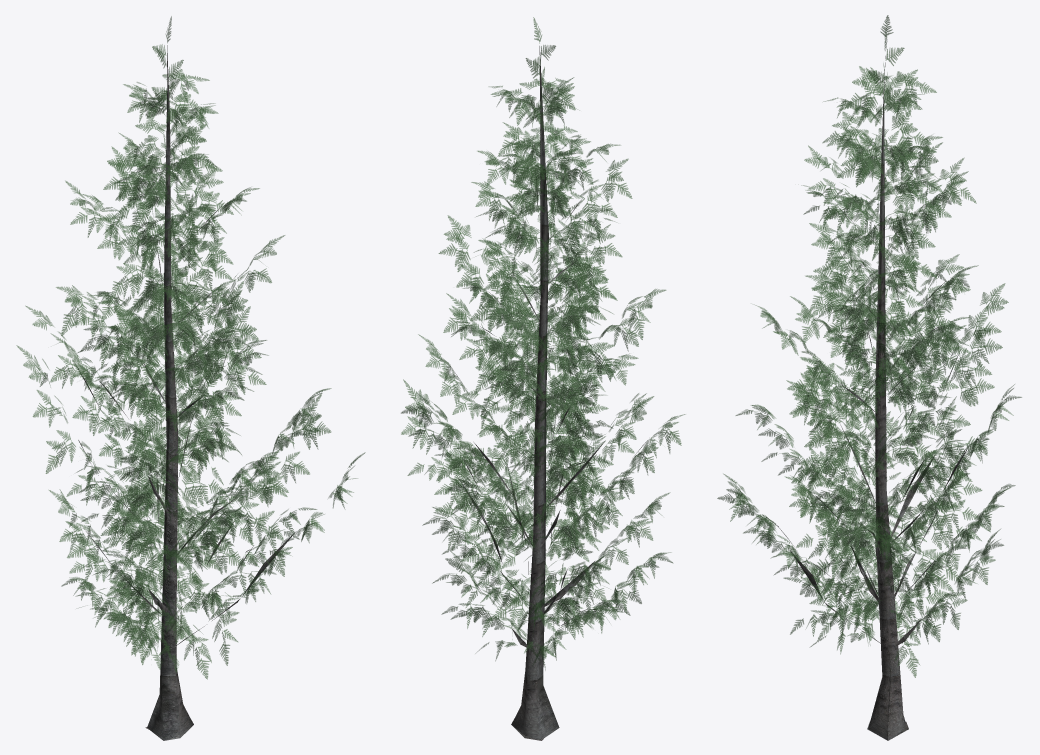
File: tree_type_04.glb
The picture shows the model from 3 angles, left to right: view 1: azimuth 30°, elevation 25°; view 2: azimuth 150°, elevation 25°; view 3: azimuth 270°, elevation 25°; orthographic projection.
Visible parts, largest first — view 1: tree_type_04; view 2: tree_type_04; view 3: tree_type_04.
Part boxes in pixels (box(x1,y1,x2,y2)): tree_type_04: box(16, 16, 365, 740); tree_type_04: box(401, 17, 685, 740); tree_type_04: box(717, 15, 1021, 740).
Size of the model in its own units: 7.09 by 18.02 by 7.08.
Materials: 2 (2 with a texture image).
